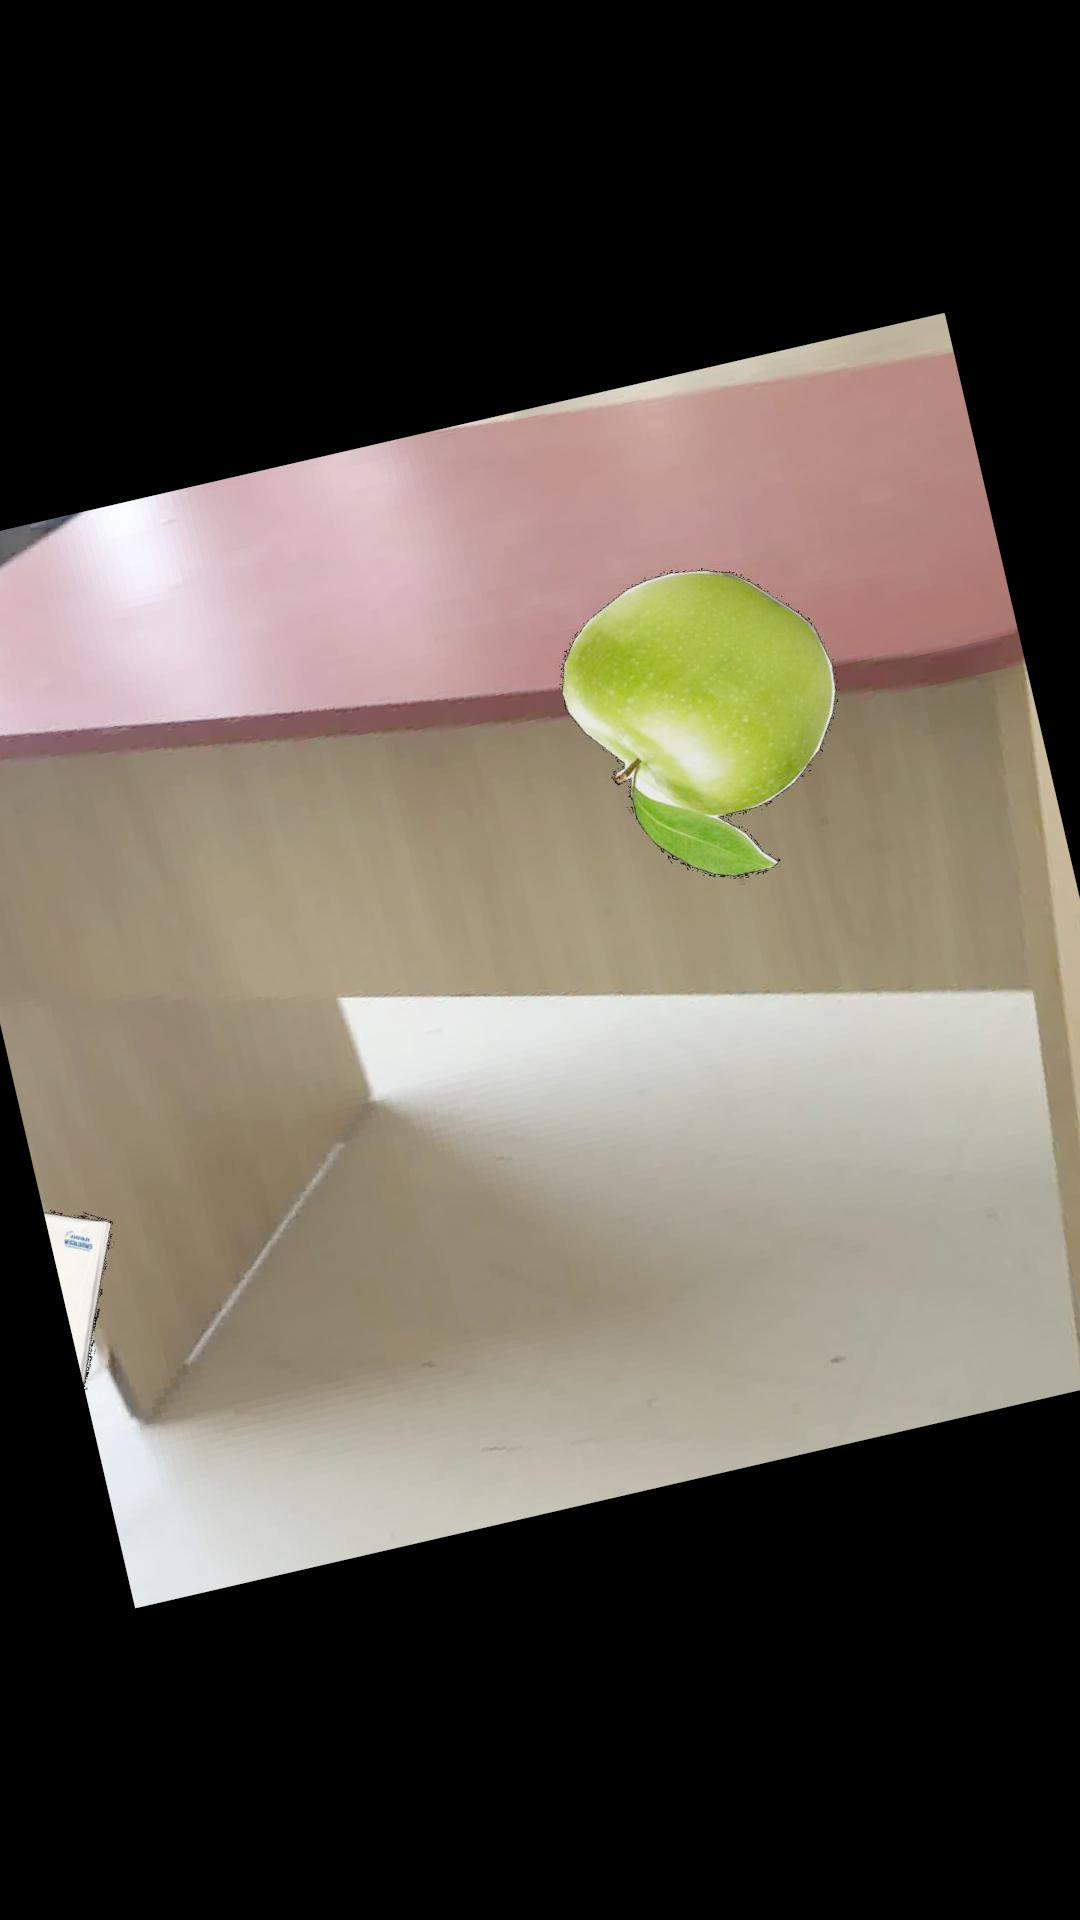green apple: (560, 570, 835, 878)
